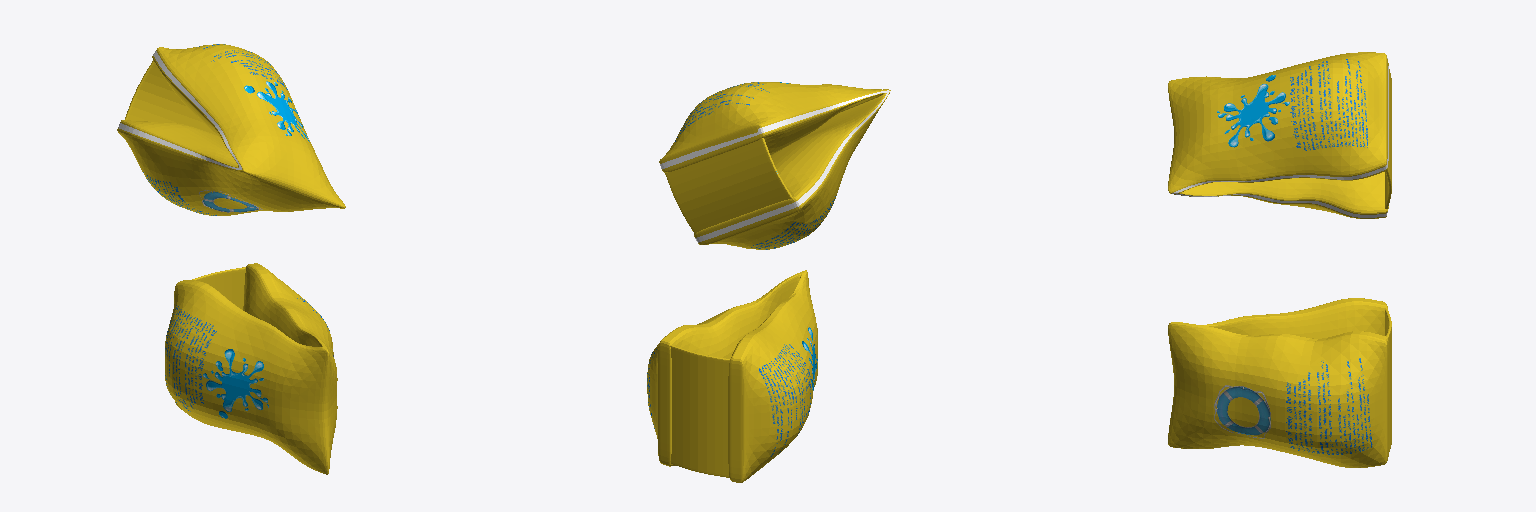
3 views of the same model, side by side, from view 1: azimuth 30°, elevation 25°; view 2: azimuth 150°, elevation 25°; view 3: azimuth 270°, elevation 25° (orthographic).
Parts seen in each view (by area): view 1: Swimming_Floaties_1, Swimming_Floaties_2, Swimming_Floaties_3, Swimming_Floaties_4; view 2: Swimming_Floaties_2, Swimming_Floaties_1, Swimming_Floaties_3, Swimming_Floaties_4; view 3: Swimming_Floaties_1, Swimming_Floaties_2, Swimming_Floaties_3.
Part boxes in pixels (bbox=[...]): Swimming_Floaties_1: bbox=[165, 263, 337, 474]; Swimming_Floaties_2: bbox=[117, 44, 345, 215]; Swimming_Floaties_3: bbox=[125, 60, 217, 135]; Swimming_Floaties_4: bbox=[192, 267, 245, 309]; Swimming_Floaties_2: bbox=[659, 82, 890, 249]; Swimming_Floaties_1: bbox=[647, 270, 817, 482]; Swimming_Floaties_3: bbox=[665, 138, 792, 233]; Swimming_Floaties_4: bbox=[670, 345, 729, 477]; Swimming_Floaties_1: bbox=[1168, 298, 1388, 467]; Swimming_Floaties_2: bbox=[1168, 52, 1388, 218]; Swimming_Floaties_3: bbox=[1385, 69, 1391, 208].
Size of the model in its own units: 11.74 by 23.9 by 12.85.
Materials: 1 (1 with a texture image).